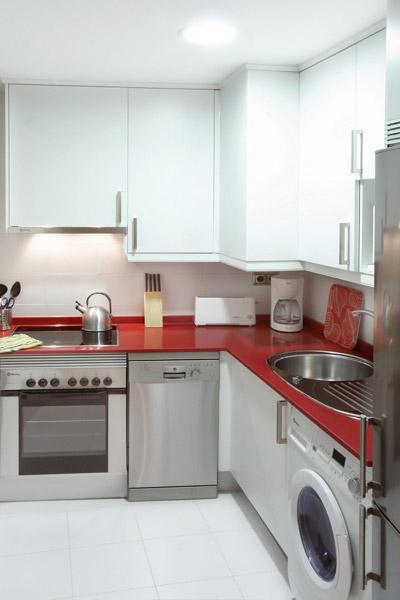Electrodomestico: (4, 333, 127, 501), (286, 420, 368, 596), (135, 357, 216, 501)
Lavaplatos: (263, 313, 380, 418)
